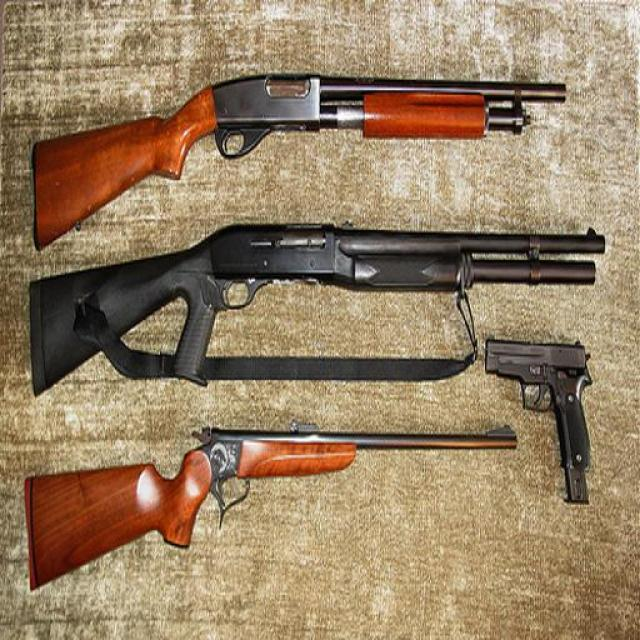pistol: (485, 335, 592, 471)
